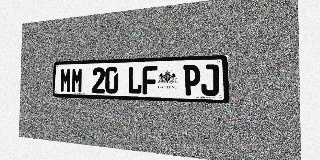0: (105, 67, 118, 94)
2: (92, 67, 105, 93)
F: (142, 66, 157, 95)
J: (201, 64, 219, 96)
L: (128, 66, 142, 94)
M: (71, 68, 83, 93), (60, 68, 71, 93)
P: (183, 65, 200, 96)
